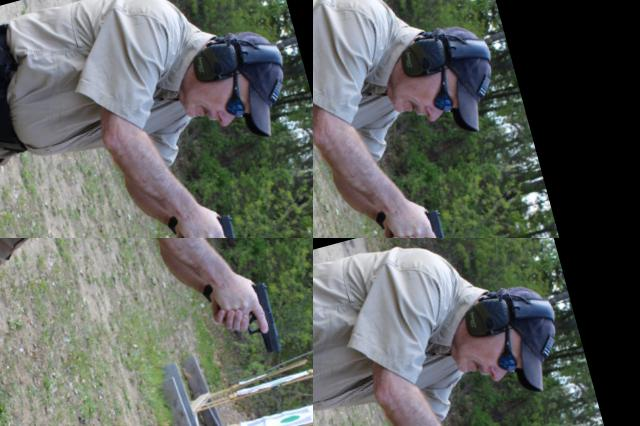handgun: (0, 238, 313, 426), (313, 0, 432, 230), (0, 2, 98, 207)
